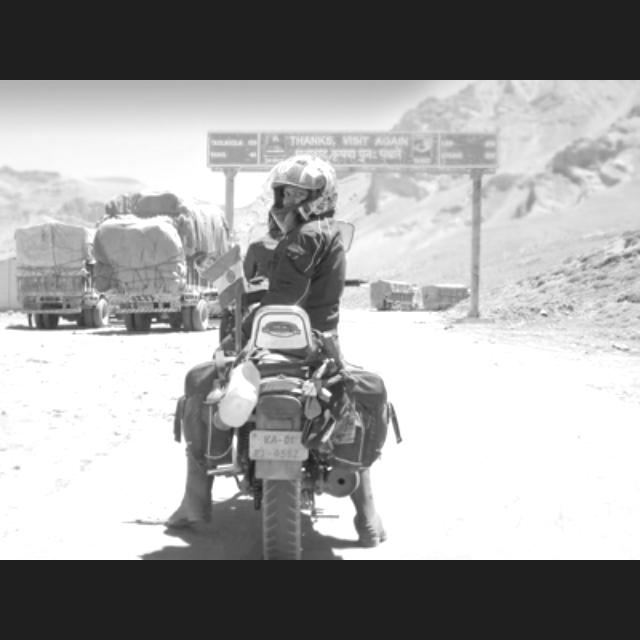With Helmet: (262, 154, 336, 230)
